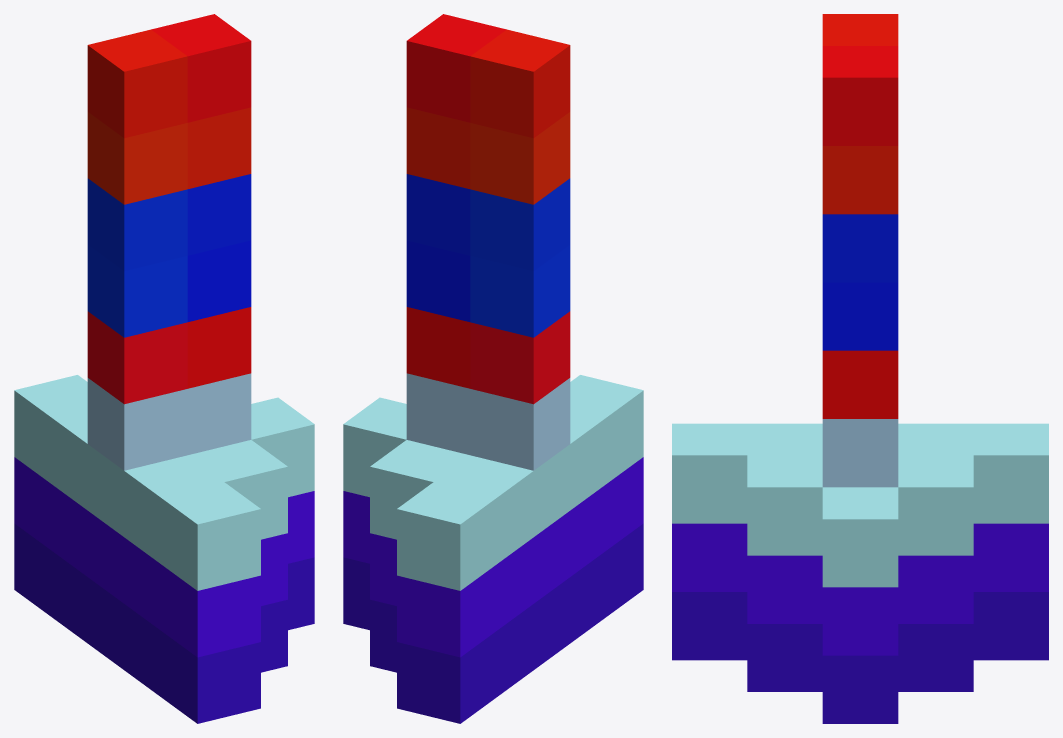
File: blocks_4.glb
3 views of the same model, side by side, from view 1: azimuth 30°, elevation 25°; view 2: azimuth 150°, elevation 25°; view 3: azimuth 270°, elevation 25° (orthographic). The views are drawn at different scales.
Visible parts, largest first — view 1: Cube.014, Cube.002, Cube.012, Cube.010, Cube.011, Cube.009, Cube.013, Cube, Cube.001, Cube.032, Cube.005, Cube.023 (+21 smaller); view 2: Cube.014, Cube.020, Cube.012, Cube.010, Cube.011, Cube.009, Cube.013, Cube.018, Cube.019, Cube.032, Cube.017, Cube.035 (+21 smaller); view 3: Cube.038, Cube.032, Cube.023, Cube.035, Cube.002, Cube.020, Cube.030, Cube.037, Cube.027, Cube.028, Cube.029, Cube.031 (+12 smaller).
Part boxes in pixels (x1,y1,x2,y2): Cube.014: (87, 29, 187, 138); Cube.002: (161, 482, 260, 590); Cube.012: (87, 178, 187, 271); Cube.010: (87, 311, 187, 404); Cube.011: (87, 245, 187, 337); Cube.009: (87, 378, 187, 470); Cube.013: (87, 112, 187, 204); Cube: (161, 631, 260, 723); Cube.001: (161, 564, 260, 657); Cube.032: (151, 14, 251, 122); Cube.005: (124, 455, 223, 563); Cube.023: (188, 440, 287, 539); Cube.014: (470, 29, 570, 138); Cube.020: (397, 482, 496, 590); Cube.012: (470, 178, 570, 271); Cube.010: (470, 311, 570, 404); Cube.011: (470, 245, 570, 337); Cube.009: (470, 378, 570, 470); Cube.013: (470, 112, 570, 204); Cube.018: (397, 631, 496, 723); Cube.019: (397, 564, 496, 657); Cube.032: (406, 14, 506, 122); Cube.017: (434, 455, 533, 563); Cube.035: (370, 440, 469, 539); Cube.038: (822, 487, 898, 587); Cube.032: (822, 46, 898, 145); Cube.023: (747, 455, 822, 555); Cube.035: (898, 455, 973, 555); Cube.002: (672, 423, 747, 523); Cube.020: (973, 423, 1048, 523); Cube.030: (822, 214, 898, 282); Cube.037: (822, 587, 898, 655); Cube.027: (822, 419, 898, 487); Cube.028: (822, 350, 898, 418); Cube.029: (822, 282, 898, 350); Cube.031: (822, 146, 898, 214).
Bounding box in the file's own units: 6 × 18 × 10.
